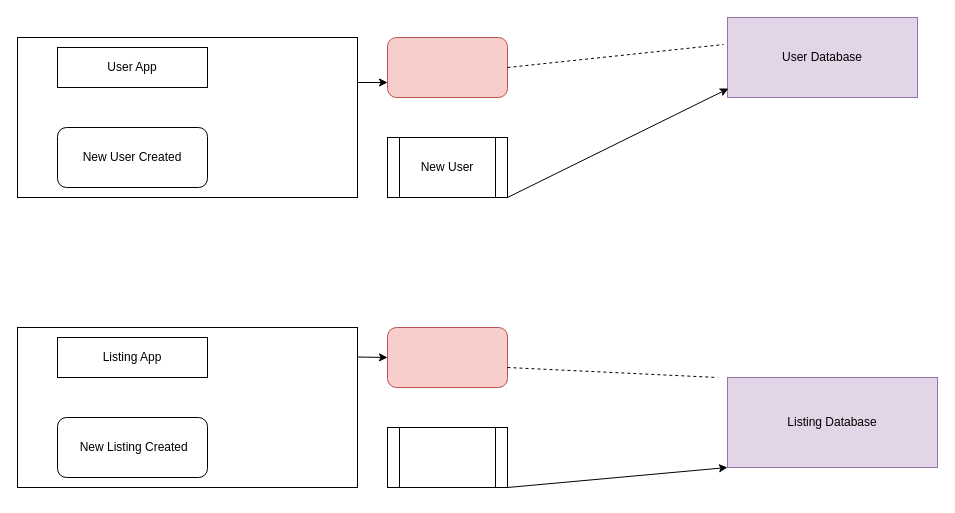
Some shapes in this 955 by 513 pixel diagram are drawn without their labels. Here are the shapes that lost their labels. From the top down, the box of each, then its label:
(386, 36, 508, 98): AuthRouter
(386, 326, 508, 388): Listing Route
(386, 426, 508, 488): New Listing
